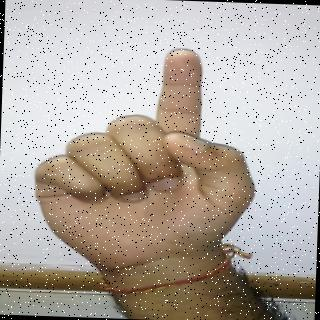I: (37, 42, 257, 271)
